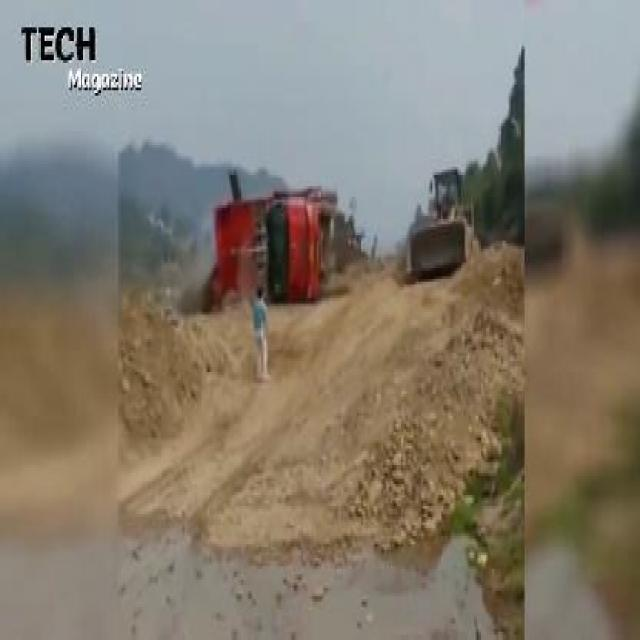accident: (200, 164, 334, 306)
